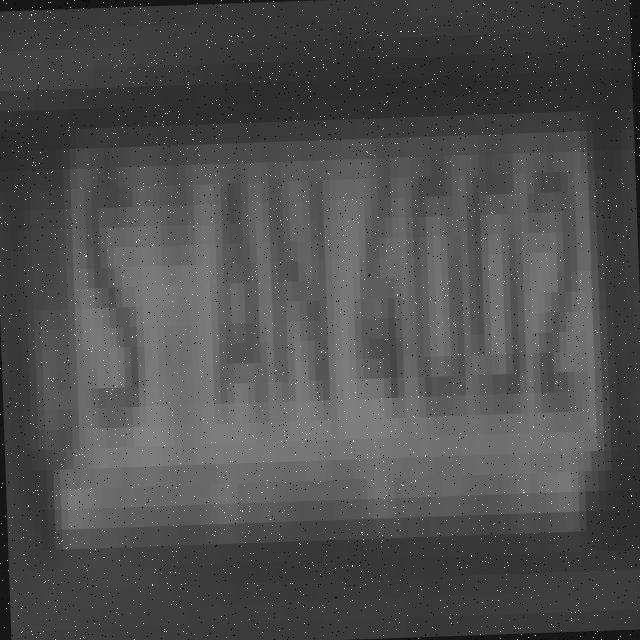Autre: (20, 122, 601, 495)
